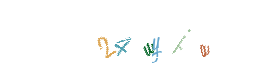2: (97, 0, 177, 80)
4: (99, 0, 179, 80)
A: (117, 0, 197, 80)
J: (108, 0, 188, 80)
U: (104, 0, 184, 80)
Y: (105, 0, 185, 80)
